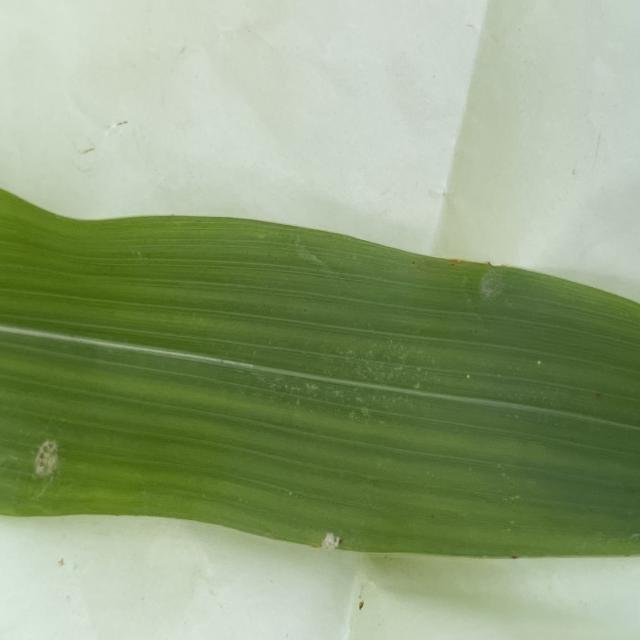millet_healthy: (1, 184, 640, 556)
